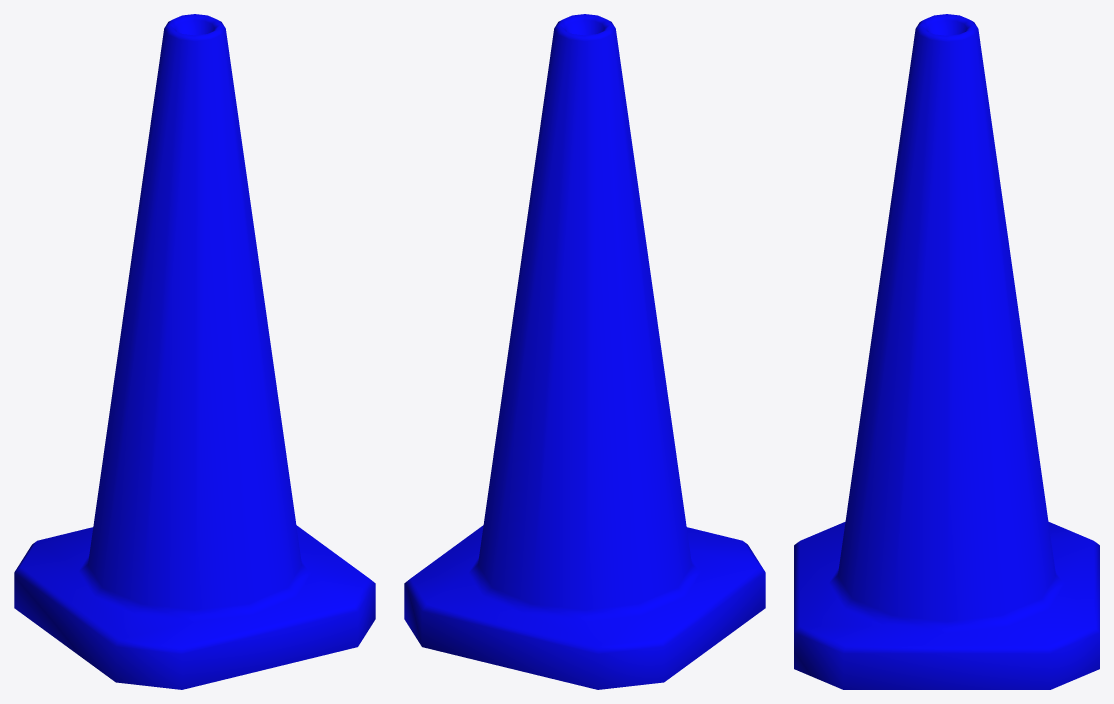
File: construction_cone.dae
3 renders of one model, left to right at view 1: azimuth 30°, elevation 25°; view 2: azimuth 150°, elevation 25°; view 3: azimuth 270°, elevation 25°, orthographic.
Parts seen in each view (by area): view 1: Box001; view 2: Box001; view 3: Box001.
Part boxes in pixels (<box>): Box001: <box>14,14,375,689</box>; Box001: <box>404,14,765,689</box>; Box001: <box>794,14,1099,689</box>.
Size of the model in its own units: 1.98 by 1.98 by 4.29.
1 material, 1 textured.
